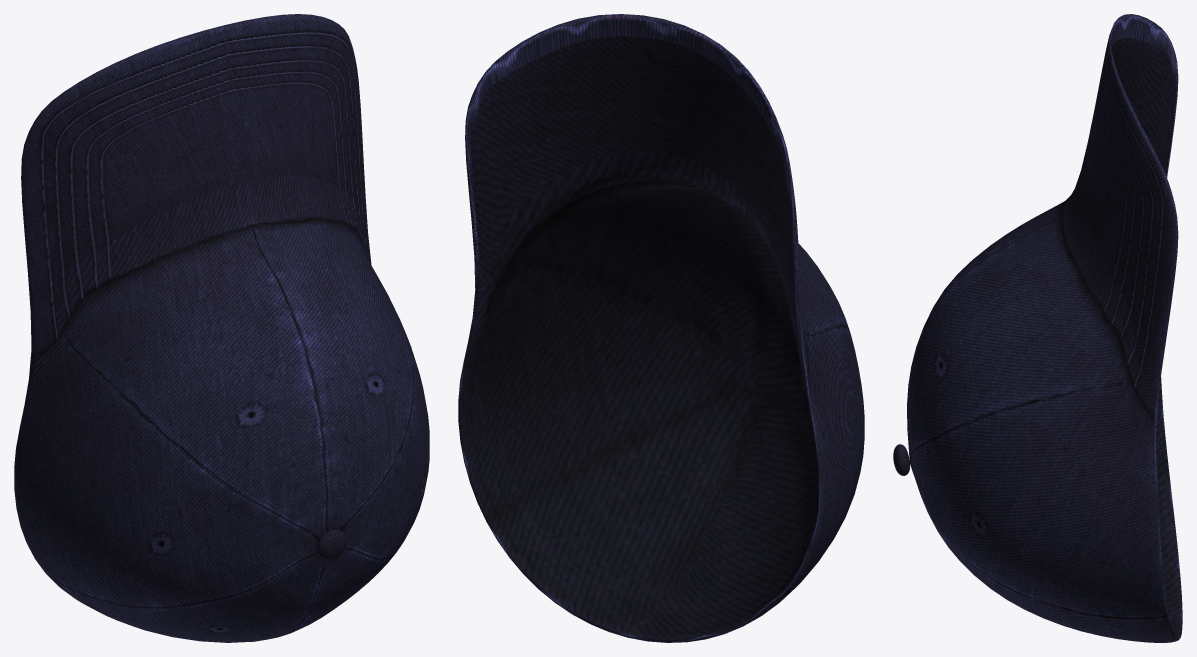
Rendered from 10131_BaseballCap_v2_L3.obj.
3 renders of one model, left to right at view 1: azimuth 30°, elevation 25°; view 2: azimuth 150°, elevation 25°; view 3: azimuth 270°, elevation 25°, orthographic. The views are drawn at different scales.
Parts seen in each view (by area): view 1: 10131_BaseballCap_v02; view 2: 10131_BaseballCap_v02; view 3: 10131_BaseballCap_v02.
Part boxes in pixels (left/top/right/bottom): 10131_BaseballCap_v02: left=14, top=14, right=429, bottom=642; 10131_BaseballCap_v02: left=458, top=14, right=864, bottom=642; 10131_BaseballCap_v02: left=893, top=14, right=1182, bottom=642.
Bounding box in the file's own units: 18.91 × 29.47 × 13.23.
1 material, 1 textured.
